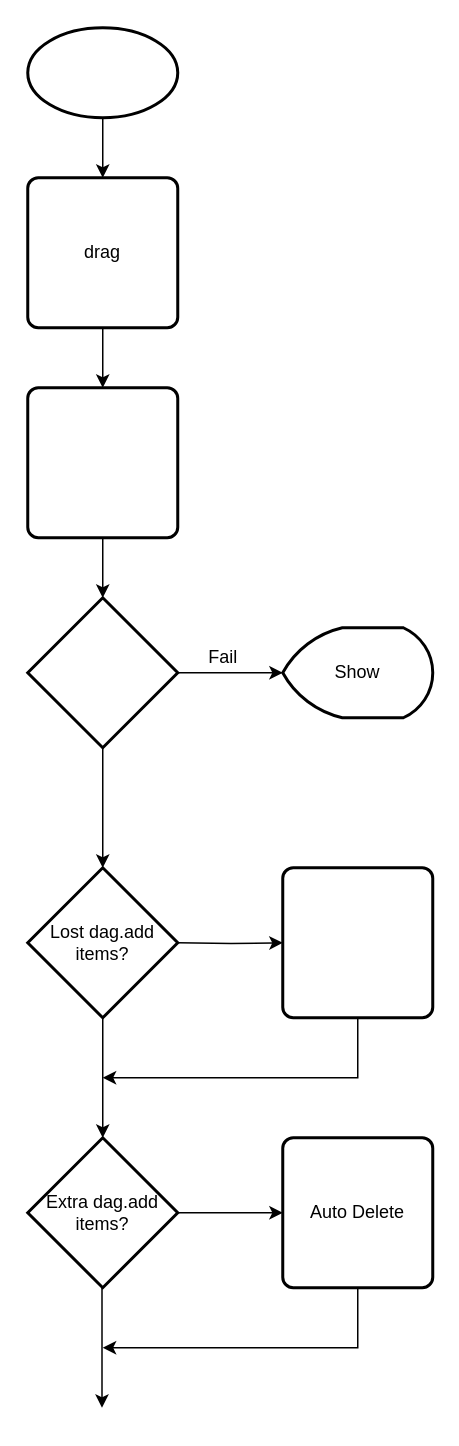
This 459x1446 diagram has some shape labels left out. Each missing label, with the centre of its shape:
"Auto Add" goes at pixel 357 942.
"click" goes at pixel 102 462.
"Queue Correct?" goes at pixel 102 672.
